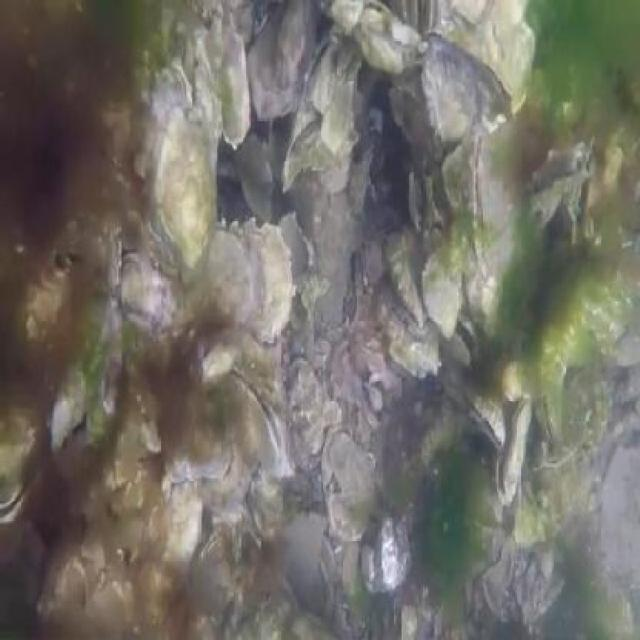Oyster-Closed: (321, 422, 378, 546), (194, 225, 254, 331), (50, 212, 123, 295), (229, 364, 280, 471), (353, 0, 420, 75), (473, 133, 514, 232), (462, 375, 505, 455), (164, 436, 237, 483), (502, 401, 533, 506), (306, 33, 339, 116), (540, 392, 561, 441), (172, 58, 193, 107), (200, 530, 223, 561)
Oyster-Indeterminate: (156, 111, 217, 267), (247, 0, 318, 121), (197, 22, 251, 146), (243, 217, 294, 342), (422, 40, 477, 138), (377, 281, 437, 370), (119, 253, 176, 338), (385, 223, 427, 328), (365, 509, 410, 592), (288, 359, 325, 457), (423, 250, 462, 338), (163, 483, 201, 561)
Oyster-Open: (0, 403, 50, 524), (443, 314, 478, 365)
